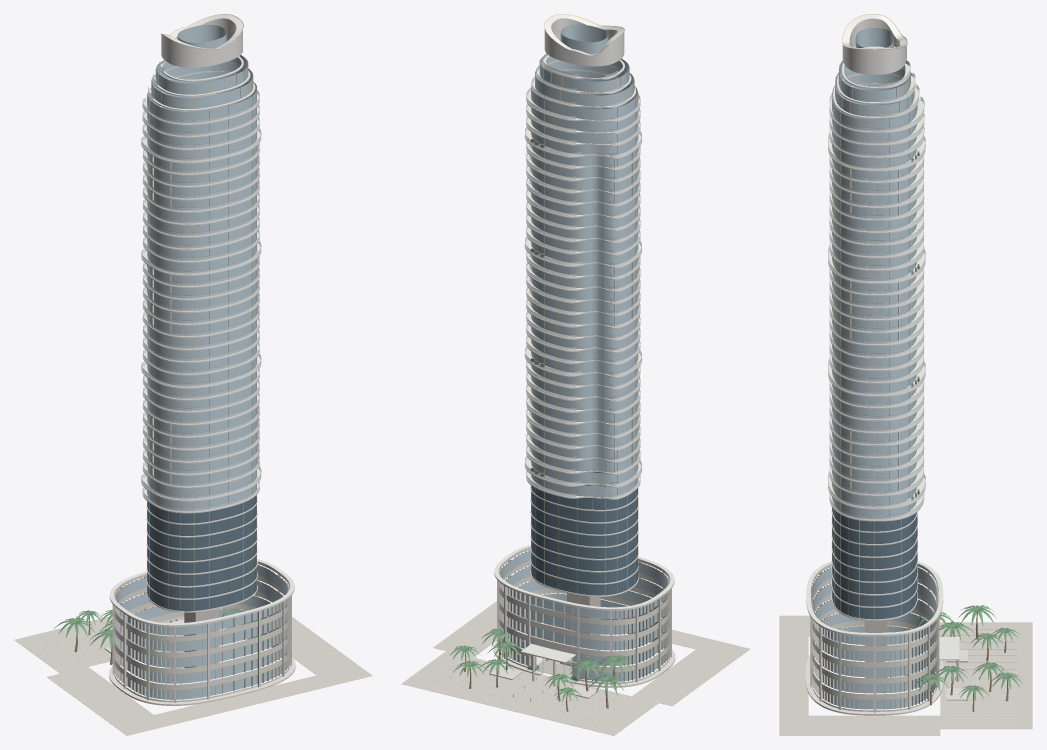
File: solara-tower.glb
3 renders of one model, left to right at view 1: azimuth 30°, elevation 25°; view 2: azimuth 150°, elevation 25°; view 3: azimuth 270°, elevation 25°, orthographic. The views are drawn at different scales.
Parts seen in each view (by area): view 1: Tower_Glass, Tower_White, Tower_Rails, Plaza, Podium_Stone, Tower_GlassDark, Podium_Glass, Tower_Metal, Crown_White, Podium_White, Crown_Glass; view 2: Tower_Glass, Tower_White, Plaza, Tower_Rails, Tower_GlassDark, Podium_Stone, Podium_Glass, Tower_Metal, Crown_White, Podium_White, Planters, Crown_Glass; view 3: Tower_Glass, Tower_White, Plaza, Tower_Rails, Podium_Stone, Tower_GlassDark, Podium_Glass, Tower_Metal, Crown_White, Podium_White, Planters, Crown_Glass.
Boxes of the visible parts, x1,y1,x2,y2 form: Tower_Glass: [147, 55, 256, 510]; Tower_White: [141, 56, 261, 612]; Tower_Rails: [141, 62, 261, 511]; Plaza: [14, 606, 372, 735]; Podium_Stone: [109, 561, 295, 705]; Tower_GlassDark: [147, 495, 256, 610]; Podium_Glass: [116, 565, 287, 699]; Tower_Metal: [141, 66, 261, 610]; Crown_White: [161, 14, 242, 67]; Podium_White: [109, 559, 294, 626]; Crown_Glass: [177, 24, 226, 48]; Tower_Glass: [531, 54, 637, 497]; Tower_White: [524, 55, 642, 596]; Plaza: [401, 594, 750, 735]; Tower_Rails: [525, 53, 641, 498]; Tower_GlassDark: [531, 470, 637, 595]; Podium_Stone: [493, 547, 675, 687]; Podium_Glass: [501, 550, 667, 681]; Tower_Metal: [525, 53, 641, 594]; Crown_White: [544, 14, 624, 66]; Podium_White: [494, 544, 674, 662]; Planters: [422, 655, 644, 726]; Crown_Glass: [560, 24, 608, 54]; Tower_Glass: [832, 60, 917, 518]; Tower_White: [828, 63, 925, 620]; Plaza: [779, 615, 1032, 735]; Tower_Rails: [828, 61, 925, 519]; Podium_Stone: [805, 563, 959, 715]; Tower_GlassDark: [832, 508, 917, 618]; Podium_Glass: [812, 567, 936, 709]; Tower_Metal: [828, 61, 925, 618]; Crown_White: [842, 14, 906, 74]; Podium_White: [806, 561, 959, 660]; Planters: [935, 629, 1016, 722]; Crown_Glass: [855, 28, 893, 47].
Bounding box in the file's own units: 72 × 180 × 64.2.
